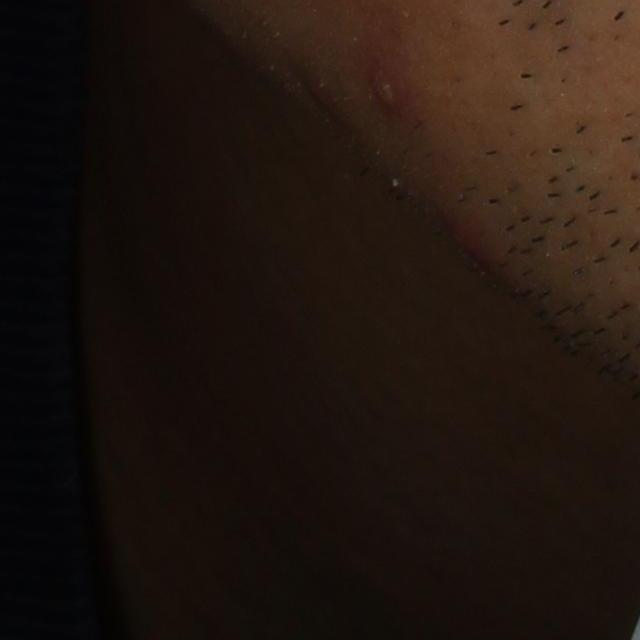pustule: (368, 63, 401, 115)
